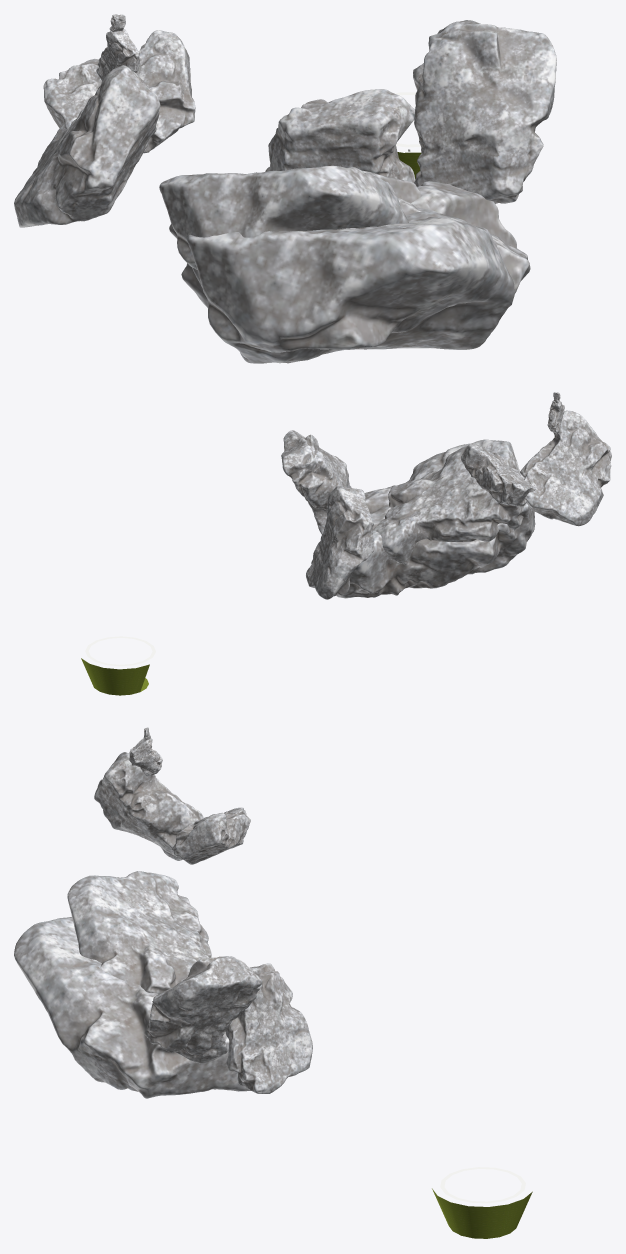
Rendered from terrain-squaw7-23-2025.glb.
3 renders of one model, top to bottom at view 1: azimuth 30°, elevation 25°; view 2: azimuth 150°, elevation 25°; view 3: azimuth 270°, elevation 25°, orthographic. The views are drawn at different scales.
Visible parts, largest first — view 1: Rock_9 (×5), Rock_9_1, Rock_9_2; view 2: Rock_9 (×5), Rock_9_2, Rock_9_1, object 6; view 3: Rock_9 (×5), Rock_9_1, Rock_9_2, object 6.
Boxes of the visible parts, bbox=[...] form: Rock_9 (×5): bbox=[14, 29, 530, 363]; Rock_9_1: bbox=[413, 20, 556, 203]; Rock_9_2: bbox=[265, 89, 415, 182]; Rock_9 (×5): bbox=[336, 400, 611, 598]; Rock_9_2: bbox=[306, 486, 374, 599]; Rock_9_1: bbox=[281, 430, 351, 534]; object 6: bbox=[81, 658, 149, 695]; Rock_9 (×5): bbox=[14, 738, 250, 1098]; Rock_9_1: bbox=[144, 956, 262, 1063]; Rock_9_2: bbox=[225, 963, 312, 1093]; object 6: bbox=[432, 1188, 532, 1238].
Bounding box in the file's own units: 1413 × 815 × 1384.
20 materials, 11 textured.
